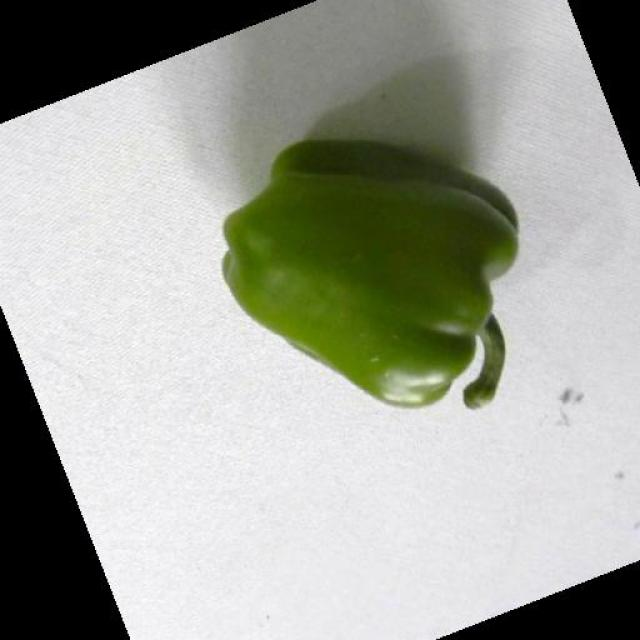Fresh_Capsicum: (236, 118, 536, 400)
